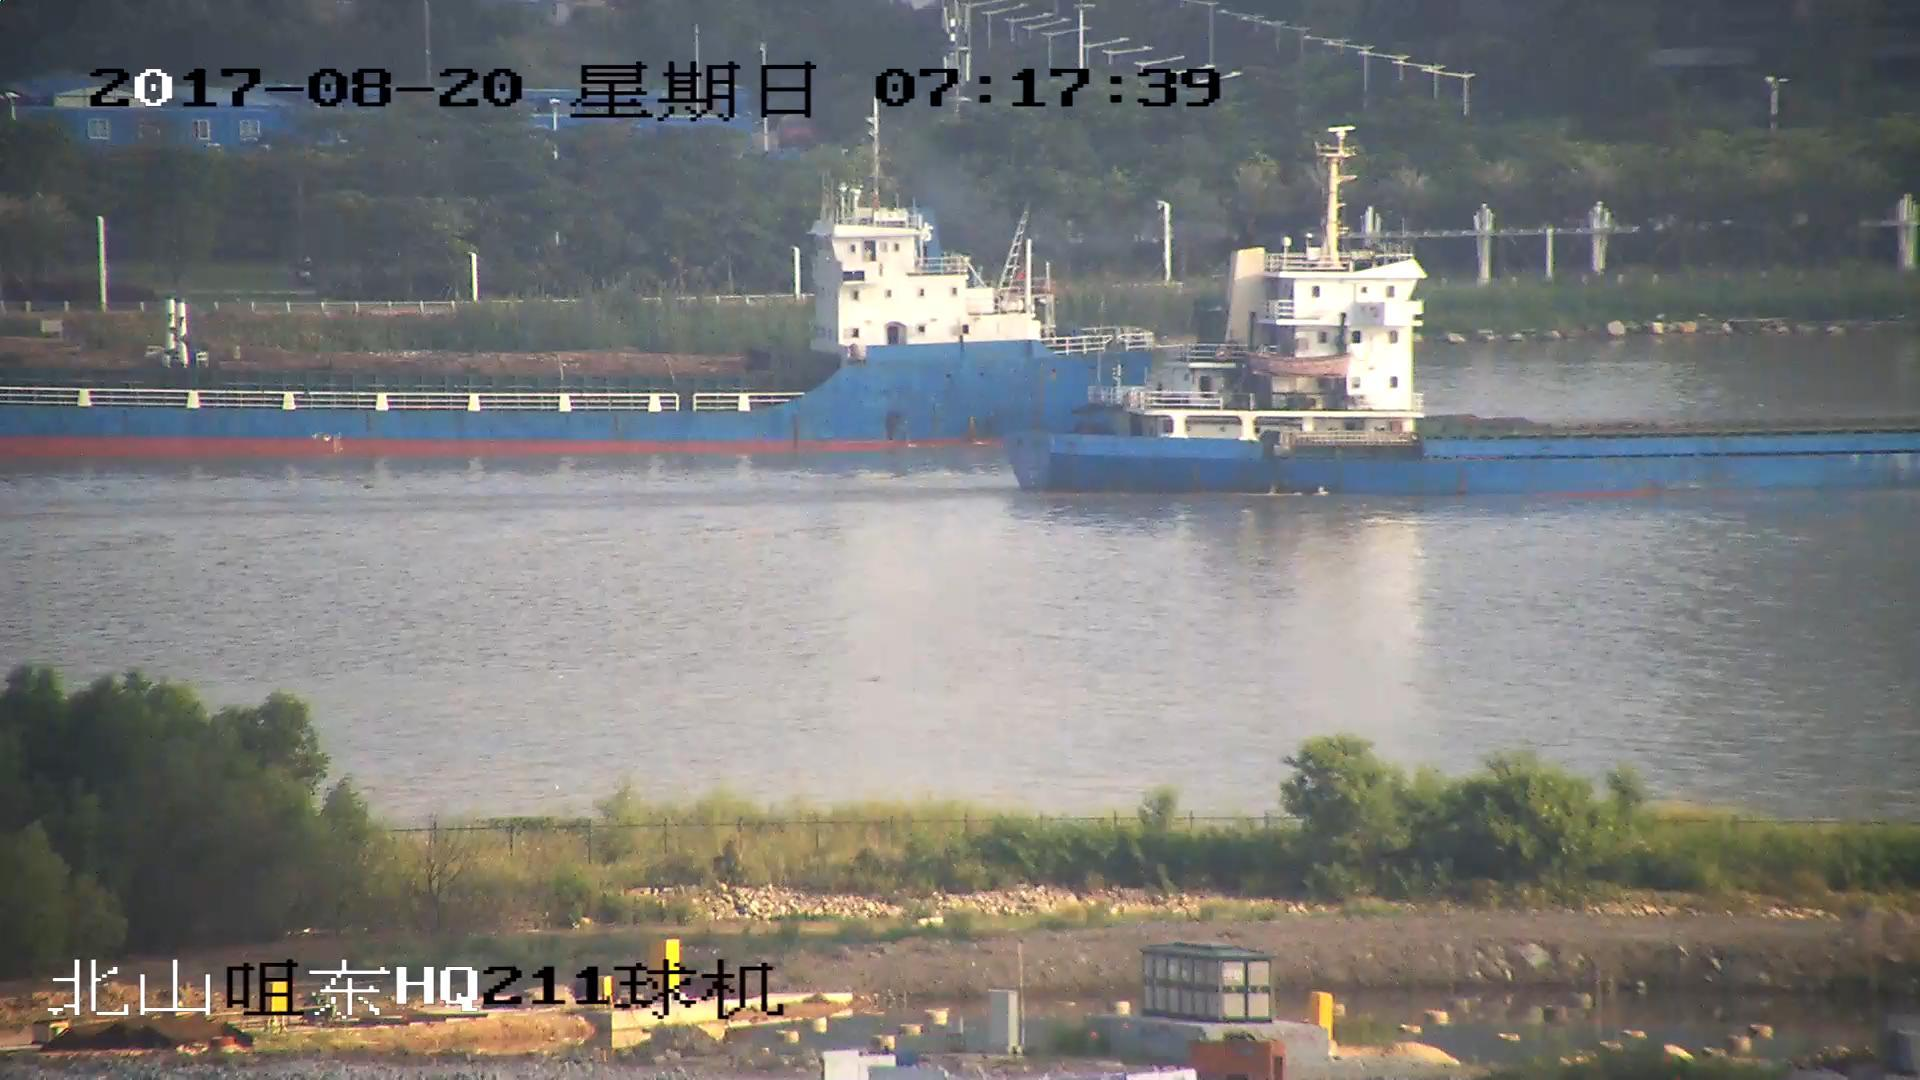Ship: (1015, 135, 1920, 495), (3, 193, 1007, 451)
